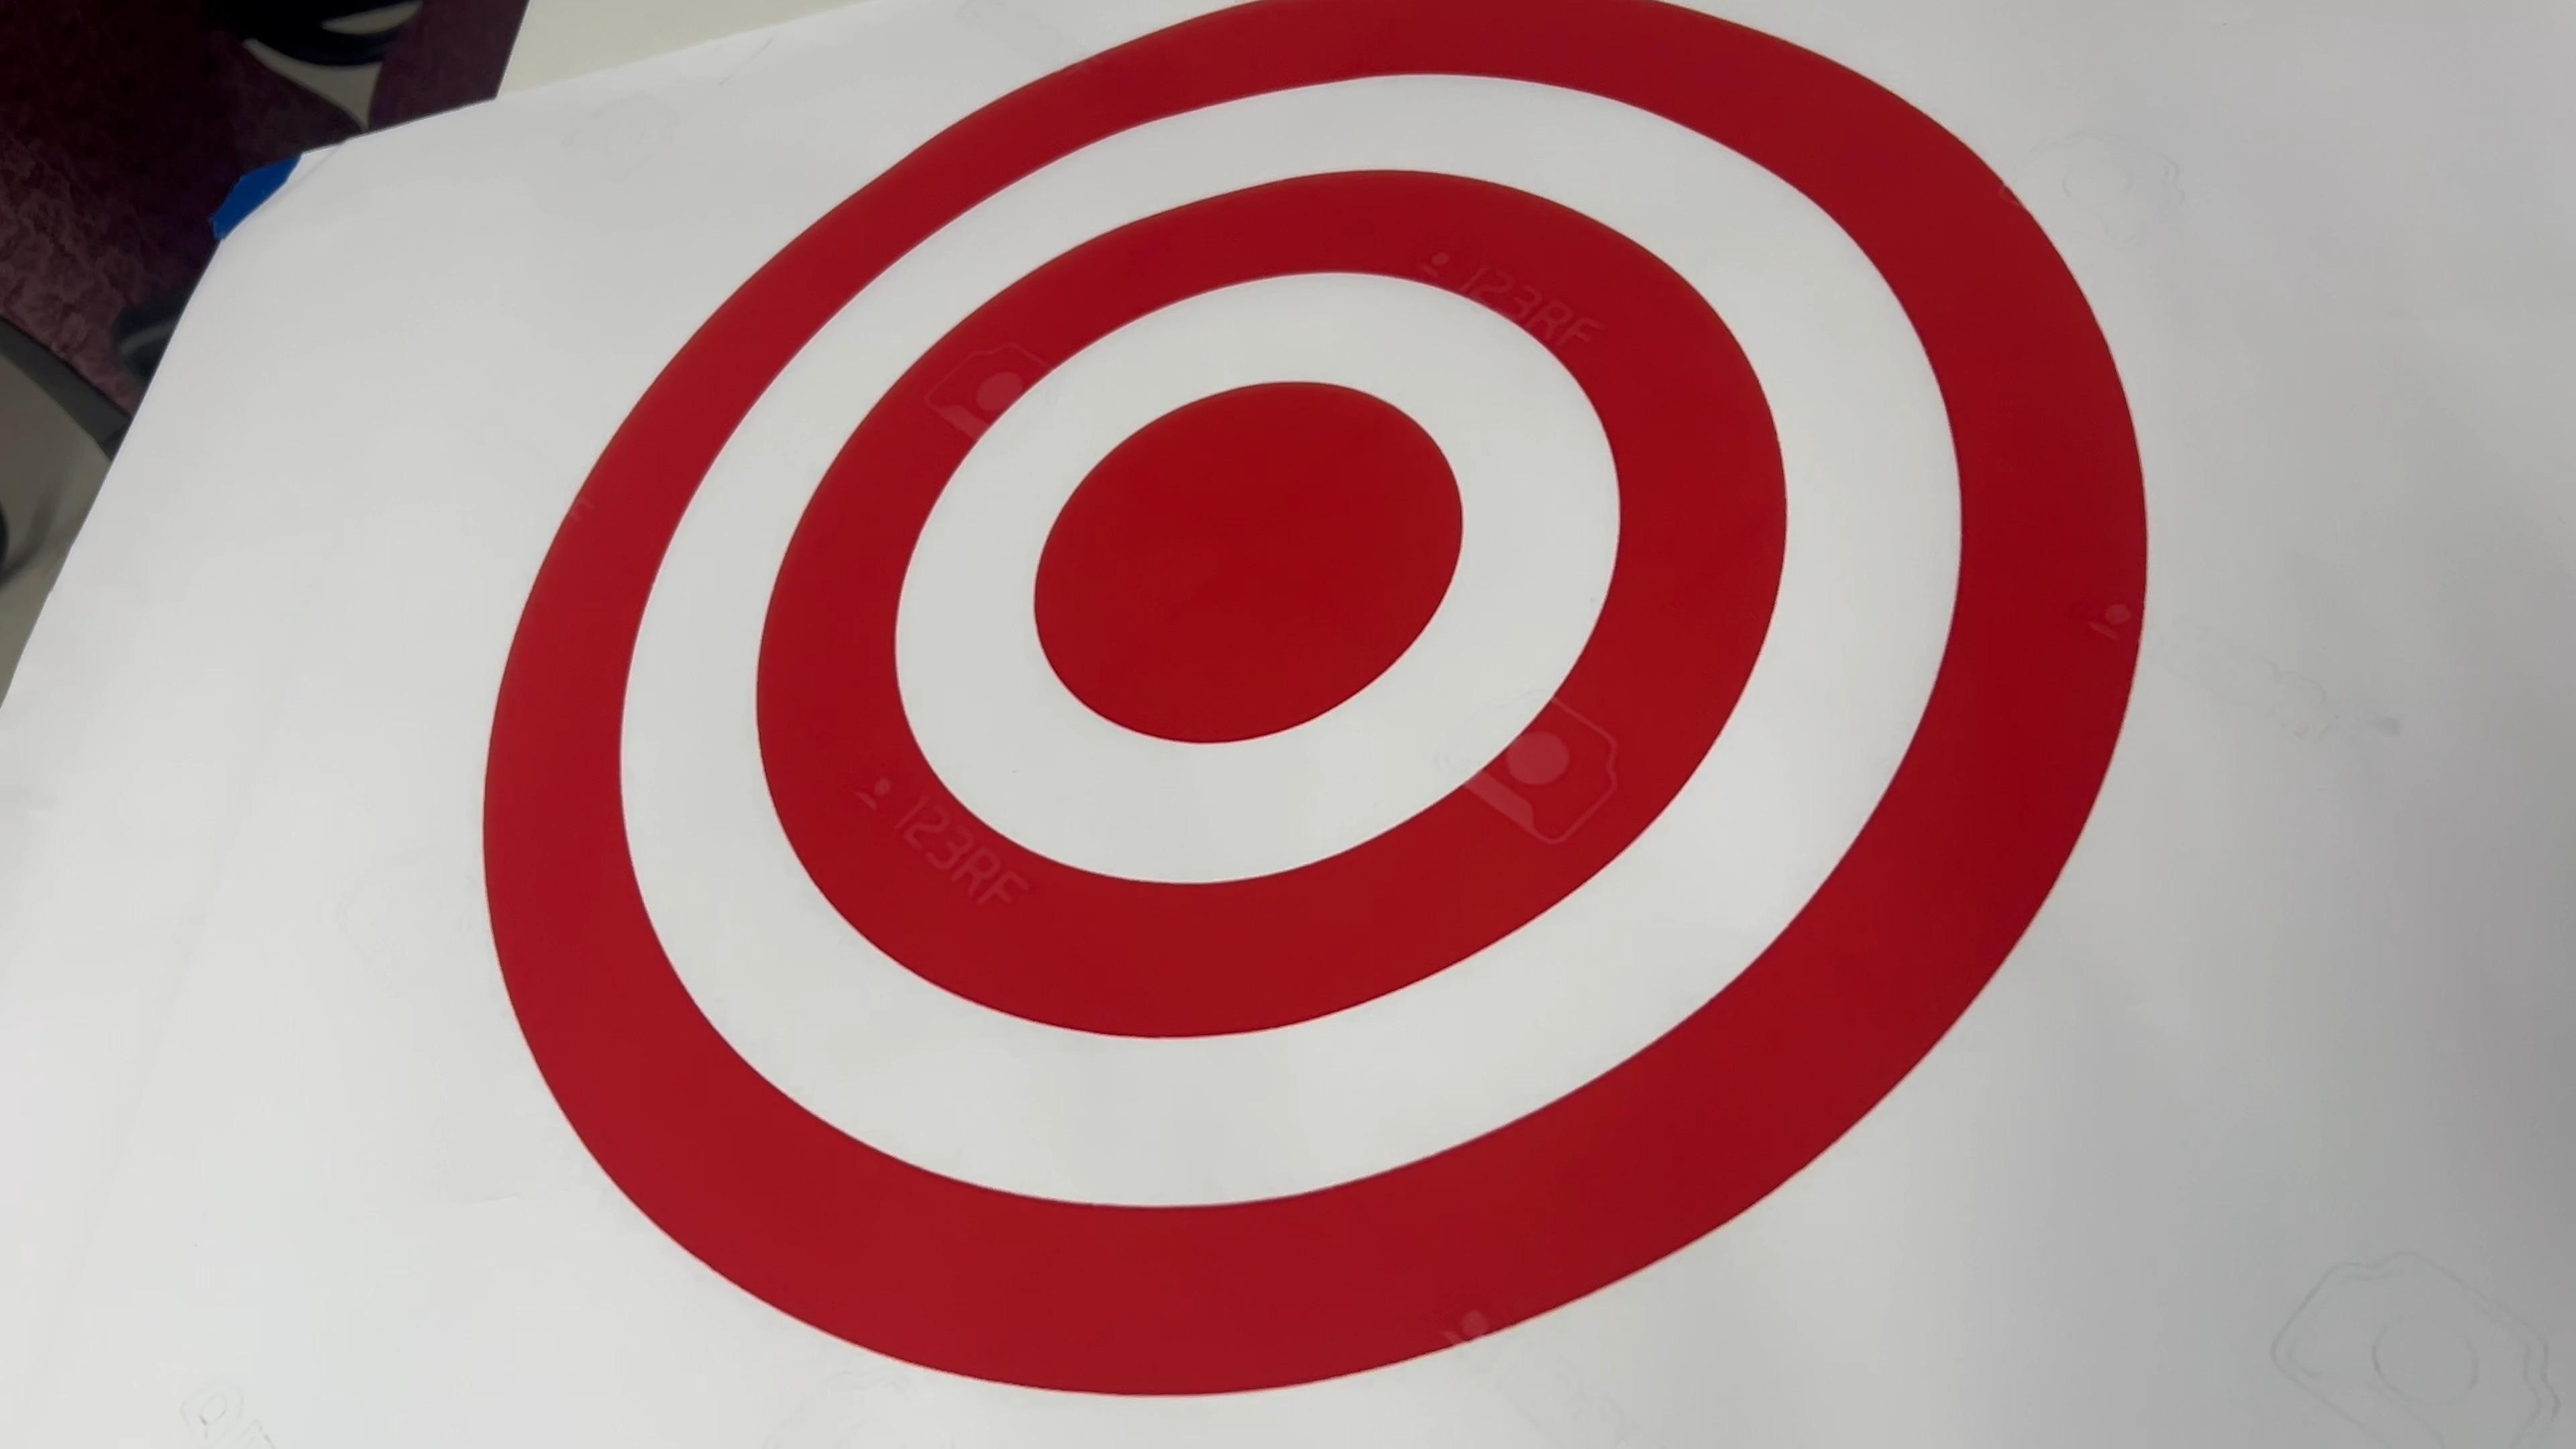target_red: (425, 0, 2197, 1449)
